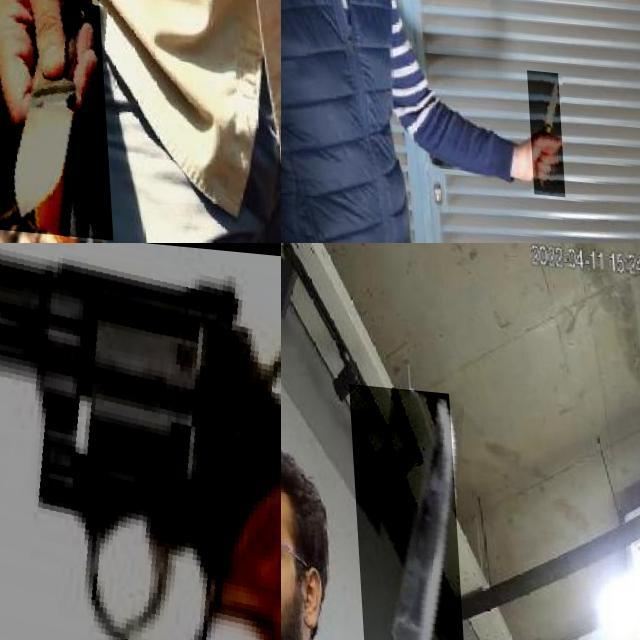-: (347, 378, 465, 640), (0, 0, 106, 235), (524, 64, 560, 190)
gun-knife-thesis - v11 Yolov5 augmented: (0, 243, 281, 640)
